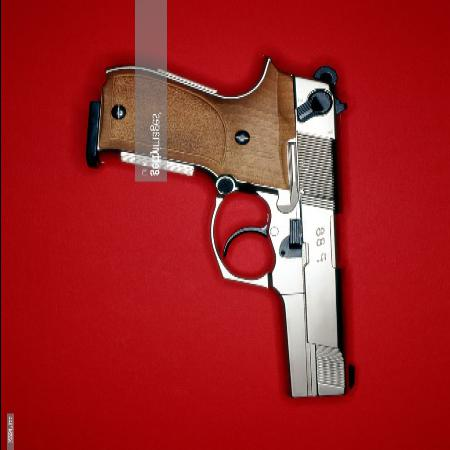Pistol: (85, 57, 360, 409)
